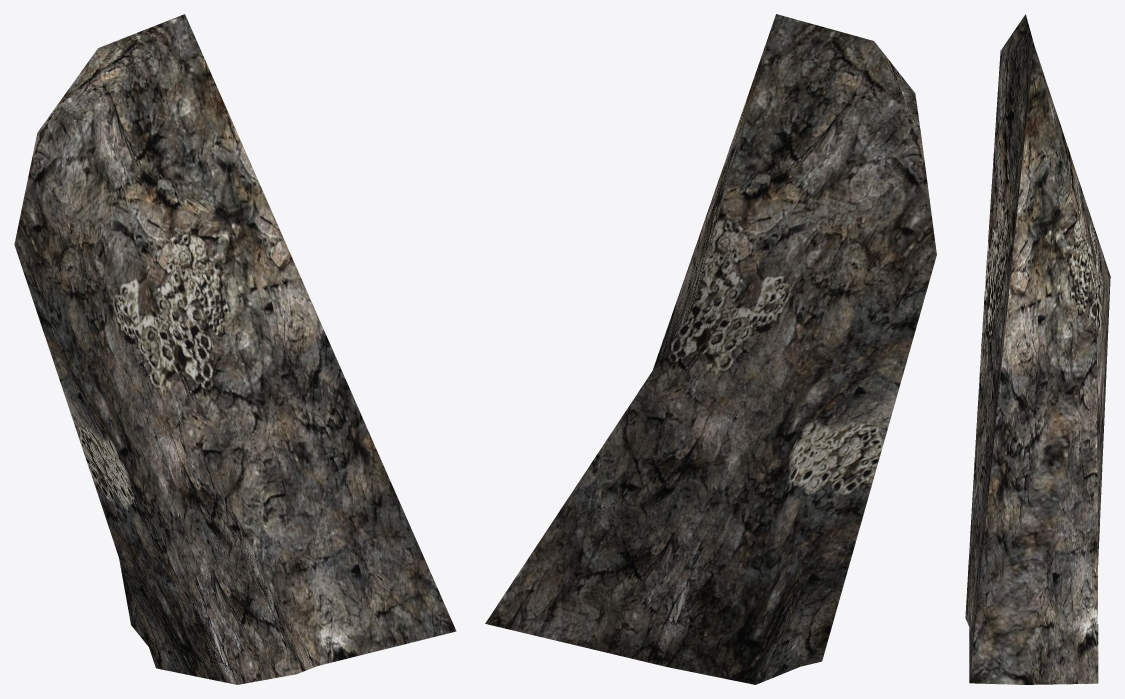
Rendered from pir_m_prp_dvj_rockBare_e.fbx.
The picture shows the model from 3 angles, left to right: view 1: azimuth 30°, elevation 25°; view 2: azimuth 150°, elevation 25°; view 3: azimuth 270°, elevation 25°; orthographic projection. The views are drawn at different scales.
Parts seen in each view (by area): view 1: lod_high; view 2: lod_high; view 3: lod_high.
Part boxes in pixels (x1,y1,x2,y2): lod_high: [14, 14, 456, 684]; lod_high: [485, 14, 936, 684]; lod_high: [965, 14, 1110, 684].
Size of the model in its own units: 2454 by 3654 by 884.
1 material, 1 textured.
